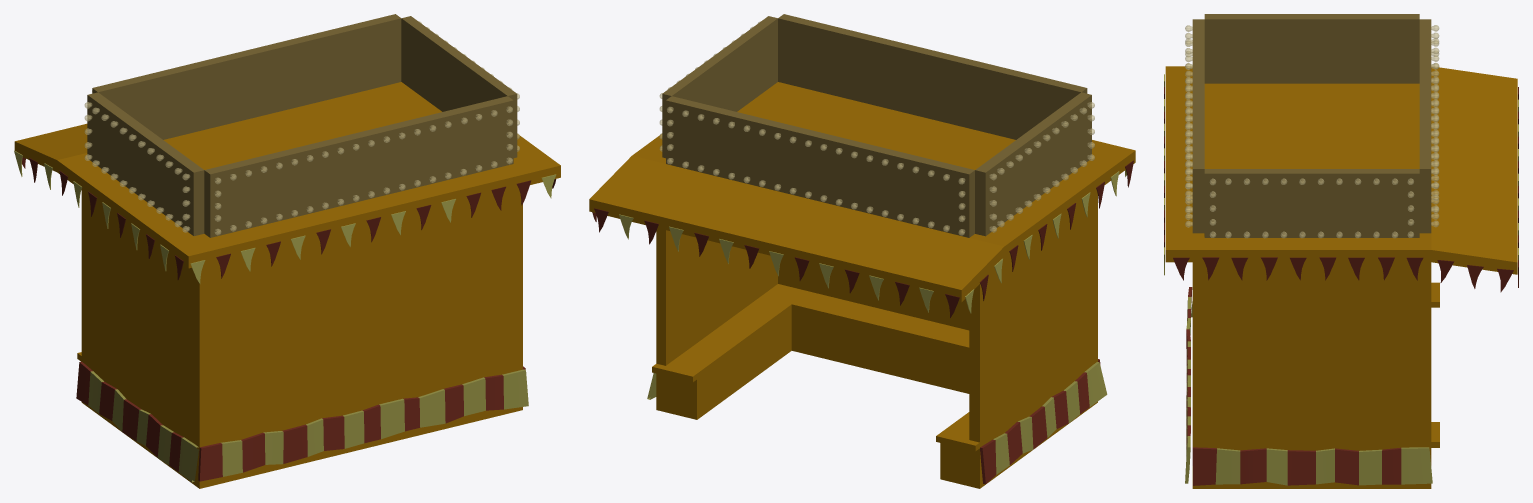
File: TallGameBooth_Proxy.fbx
3 views of the same model, side by side, from view 1: azimuth 30°, elevation 25°; view 2: azimuth 150°, elevation 25°; view 3: azimuth 270°, elevation 25° (orthographic).
Visible parts, largest first — view 1: Booth_Frame, Booth_Sign, Skirt_Back, Skirt_RT, Flags; view 2: Booth_Frame, Booth_Sign, Skirt_RT, Flags; view 3: Booth_Frame, Booth_Sign, Skirt_LT, Flags, Skirt_Back.
Boxes of the visible parts, box(x1,y1,x2,y2) form: Booth_Frame: box(14, 82, 560, 488); Booth_Sign: box(87, 14, 517, 237); Skirt_Back: box(198, 369, 528, 481); Skirt_RT: box(76, 361, 198, 482); Flags: box(14, 150, 556, 283); Booth_Frame: box(589, 82, 1135, 488); Booth_Sign: box(662, 14, 1091, 237); Skirt_RT: box(980, 362, 1107, 484); Flags: box(592, 160, 1133, 317); Booth_Frame: box(1165, 66, 1517, 488); Booth_Sign: box(1192, 14, 1431, 237); Skirt_LT: box(1192, 447, 1432, 485); Flags: box(1164, 74, 1518, 292); Skirt_Back: box(1185, 287, 1192, 483).
Size of the model in its own units: 705 by 558 by 569.
